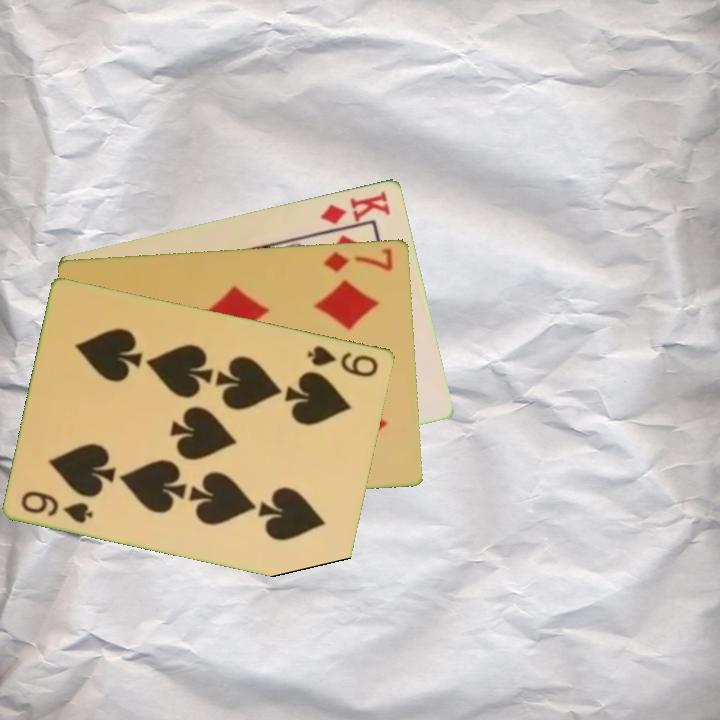7d: (320, 244, 396, 274)
9s: (18, 487, 96, 526), (304, 342, 382, 380)
Kd: (317, 187, 394, 227)
